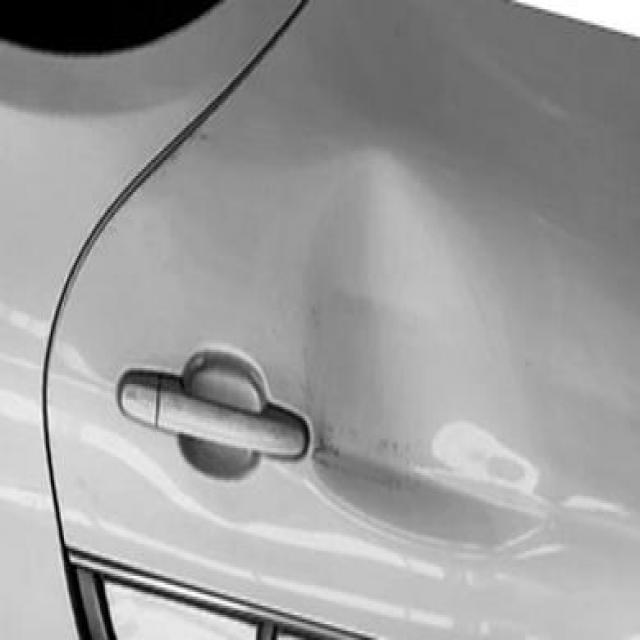dent: (255, 126, 574, 586)
